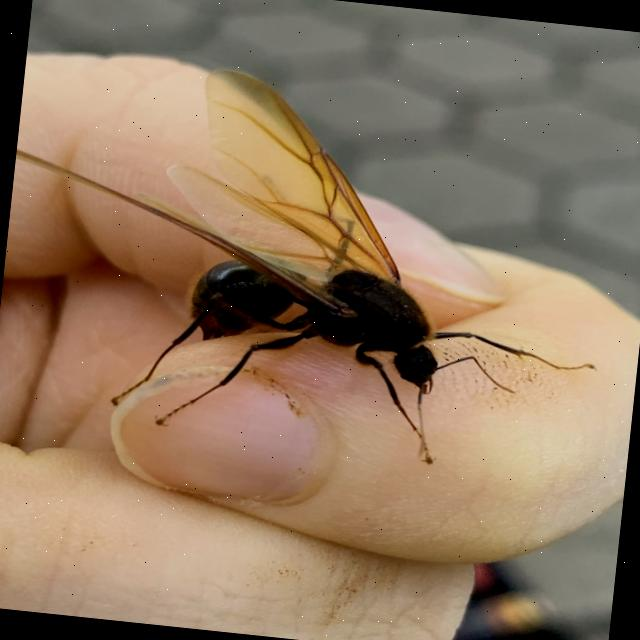Alive-Male-Alate: (0, 46, 624, 480)
